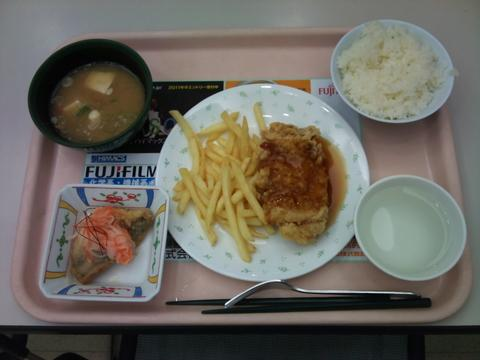plate: (154, 84, 369, 281), (355, 175, 466, 280)
rice: (338, 23, 443, 119)
